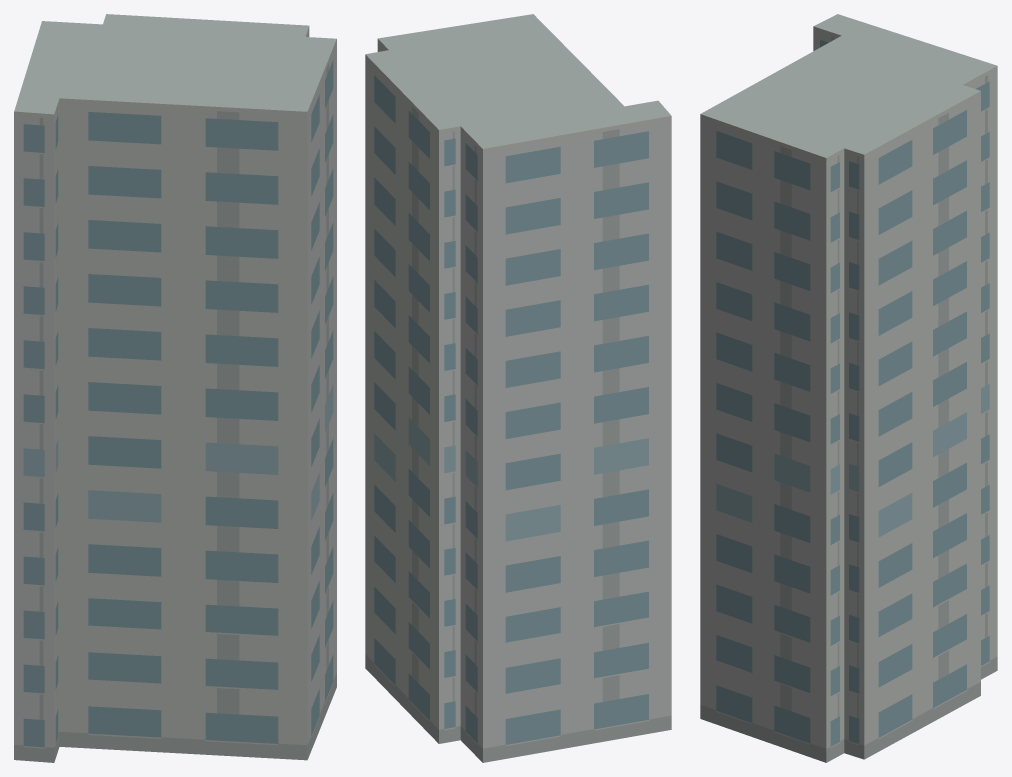
The model's file is residential-7bf176d5-c106-40ed-a9f7-7cfea41f477f.glb.
The picture shows the model from 3 angles, left to right: view 1: azimuth 30°, elevation 25°; view 2: azimuth 150°, elevation 25°; view 3: azimuth 270°, elevation 25°; orthographic projection. The views are drawn at different scales.
Visible parts, largest first — view 1: residential-7bf176d5-c106-40ed-a9f7-7cfea41f477f.tmp; view 2: residential-7bf176d5-c106-40ed-a9f7-7cfea41f477f.tmp; view 3: residential-7bf176d5-c106-40ed-a9f7-7cfea41f477f.tmp.
Boxes of the visible parts, box(x1,y1,x2,y2) form: residential-7bf176d5-c106-40ed-a9f7-7cfea41f477f.tmp: box(14, 14, 336, 762); residential-7bf176d5-c106-40ed-a9f7-7cfea41f477f.tmp: box(365, 14, 671, 762); residential-7bf176d5-c106-40ed-a9f7-7cfea41f477f.tmp: box(700, 14, 997, 762).
Bounding box in the file's own units: 18.71 × 36.6 × 16.32.
